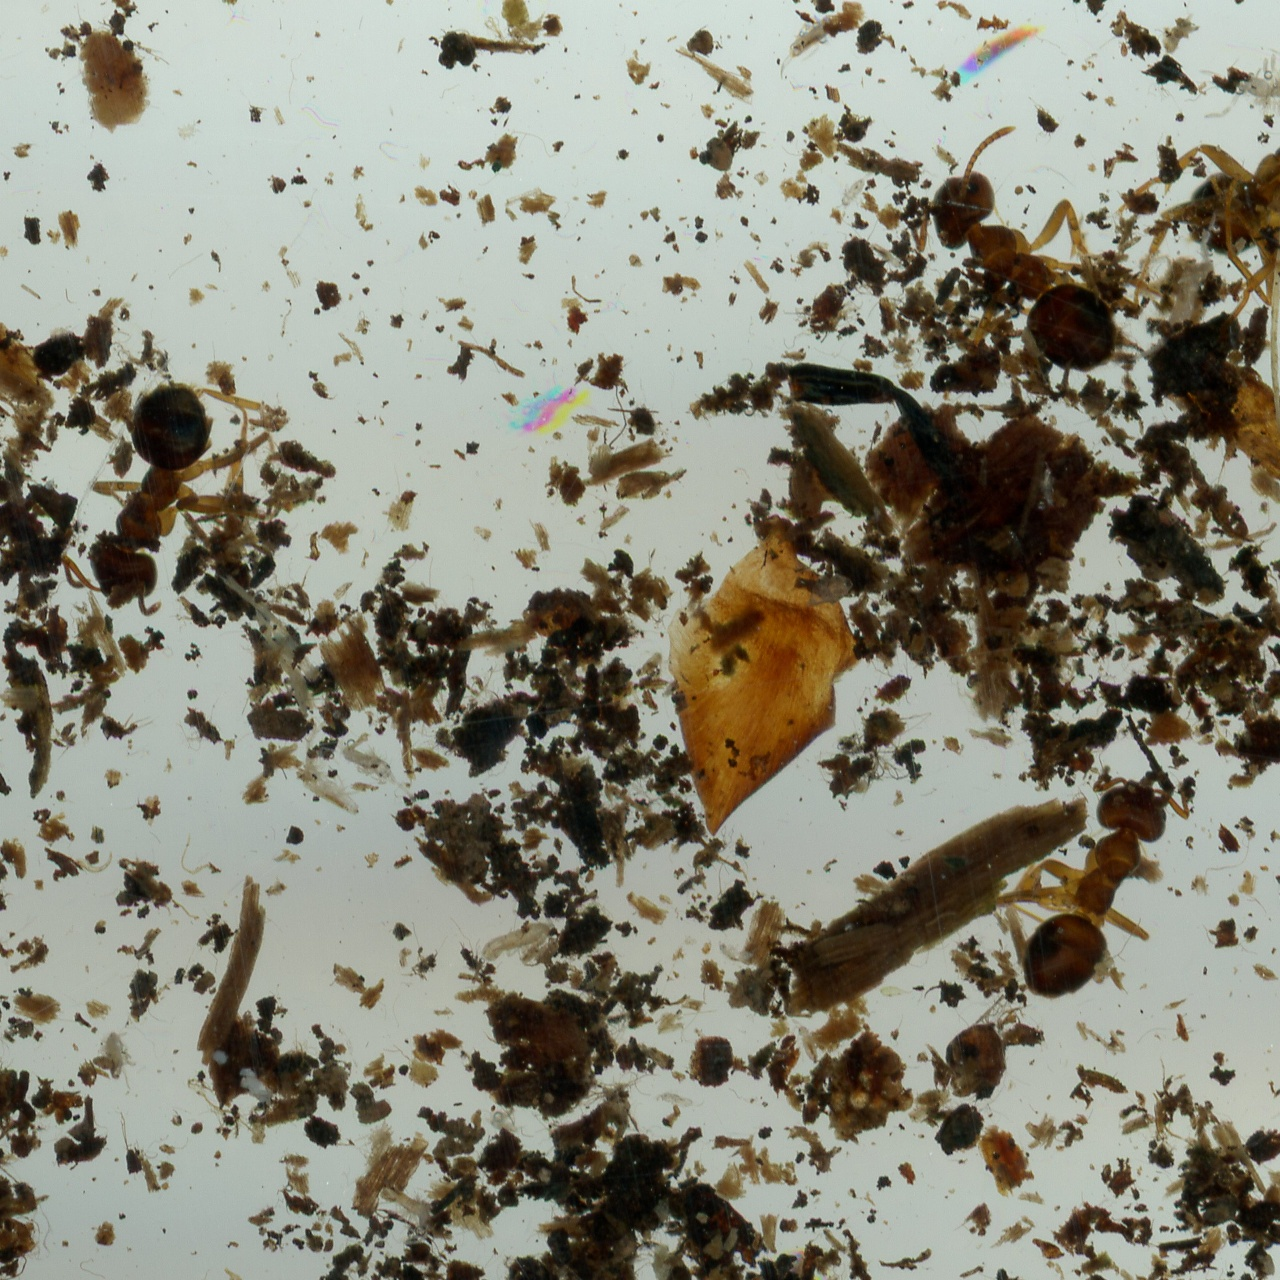arthropod: (865, 117, 1172, 435), (52, 356, 287, 639), (989, 761, 1190, 1023), (1115, 50, 1280, 339), (1128, 207, 1225, 362), (279, 717, 392, 824), (1200, 19, 1280, 124), (761, 2, 846, 84), (336, 735, 415, 802), (474, 913, 559, 974), (379, 1184, 437, 1248), (828, 162, 881, 222), (482, 1107, 535, 1143), (790, 1017, 826, 1068), (651, 1087, 709, 1115), (1096, 9, 1129, 50), (715, 939, 757, 965), (787, 1269, 843, 1280), (1116, 40, 1133, 60), (689, 0, 712, 4)
